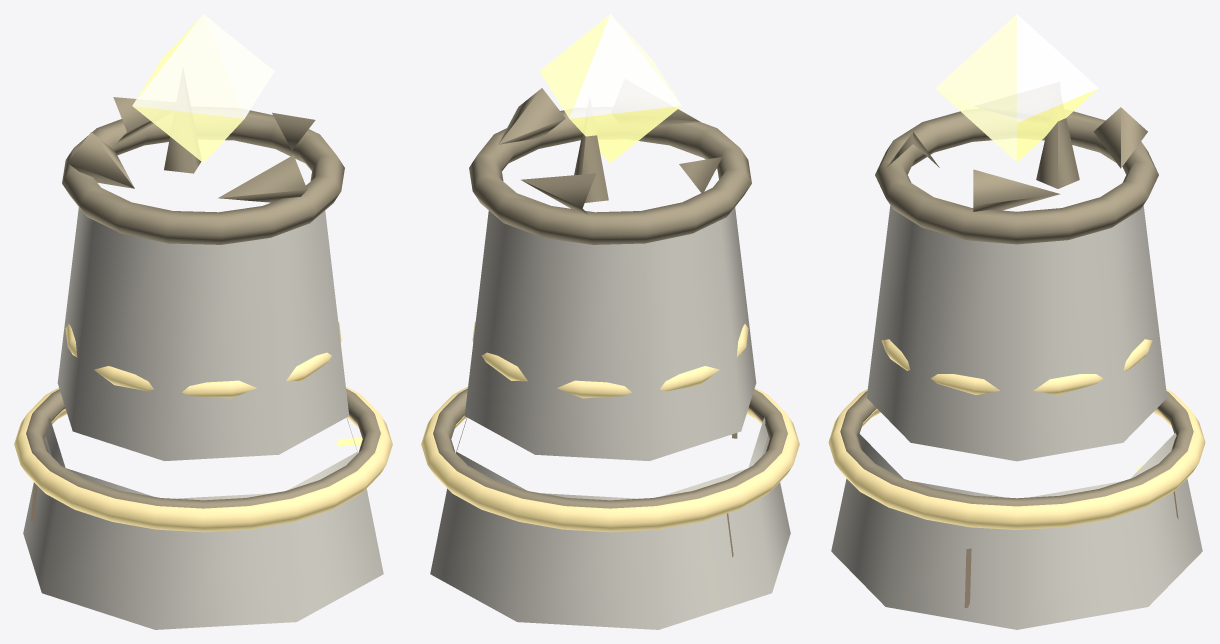
Rendered from tower_skyguard_3.glb.
3 views of the same model, side by side, from view 1: azimuth 30°, elevation 25°; view 2: azimuth 150°, elevation 25°; view 3: azimuth 270°, elevation 25° (orthographic).
Visible parts, largest first — view 1: turret, base; view 2: turret, base; view 3: turret, base.
Part boxes in pixels (x1=…): turret: x1=57, y1=14, x2=349, y2=461; base: x1=14, y1=136, x2=392, y2=629; turret: x1=464, y1=14, x2=756, y2=461; base: x1=421, y1=133, x2=799, y2=629; turret: x1=866, y1=14, x2=1167, y2=461; base: x1=828, y1=118, x2=1205, y2=629.
Bounding box in the file's own units: 2.76 × 4.34 × 2.76.
